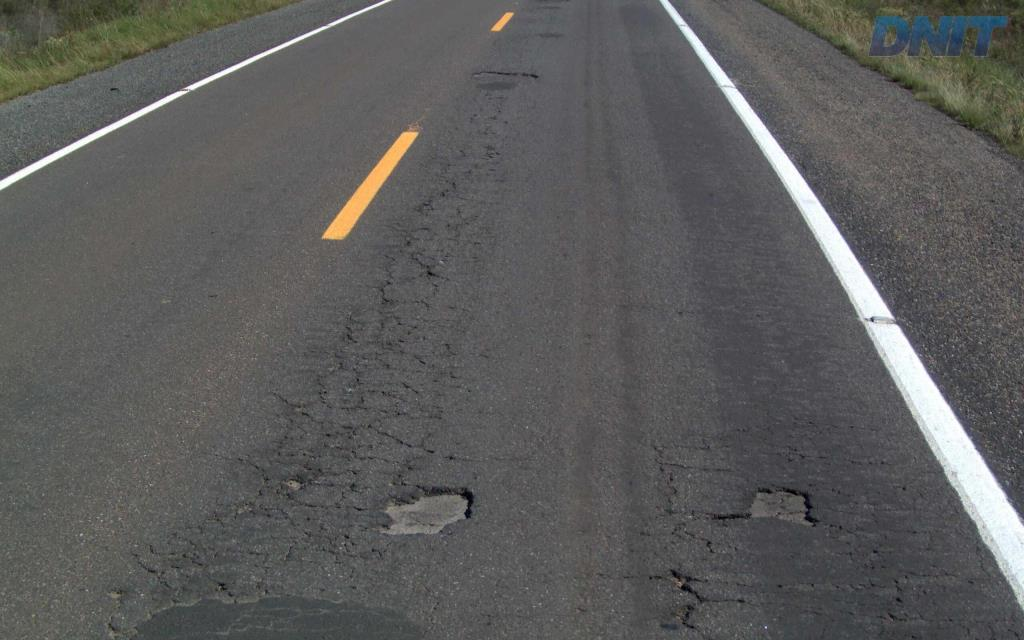crack: (666, 562, 719, 604)
pothole: (373, 472, 478, 544), (702, 475, 824, 533)
